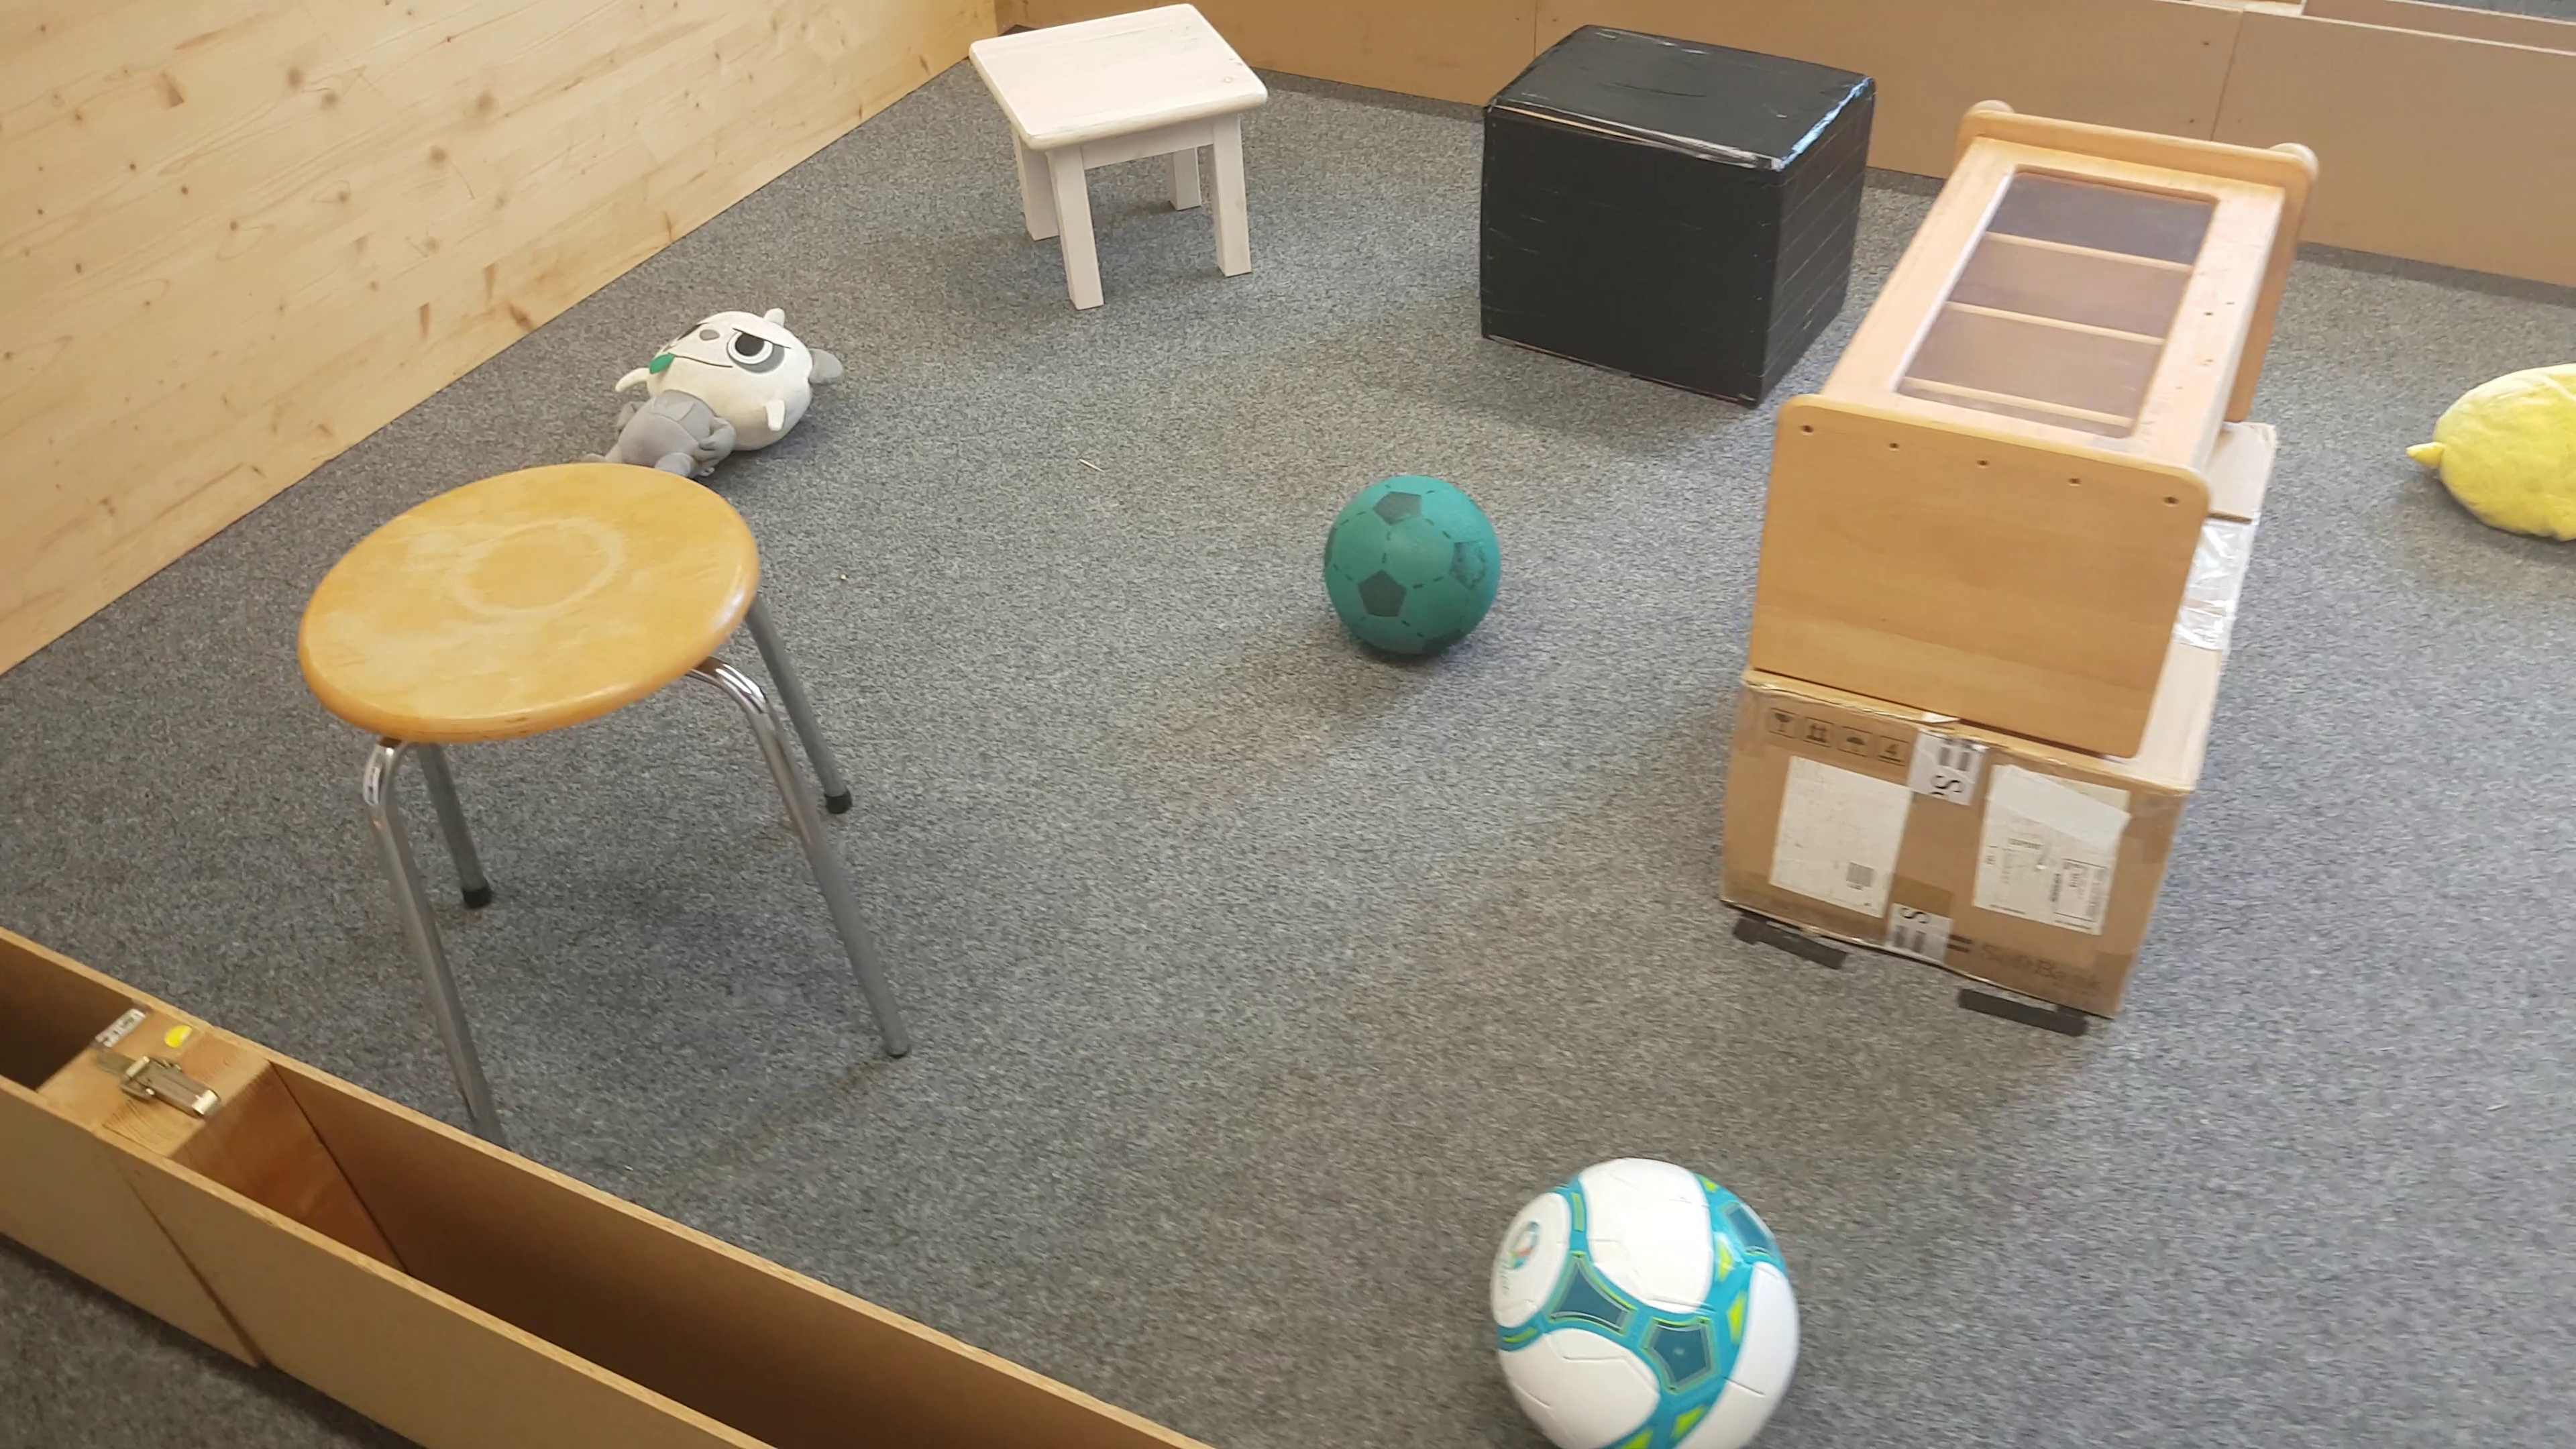grasp: (607, 304, 840, 465), (2406, 352, 2576, 541)
kick: (1500, 1155, 1803, 1449), (1325, 481, 1509, 671)
push: (1481, 25, 1817, 373)
